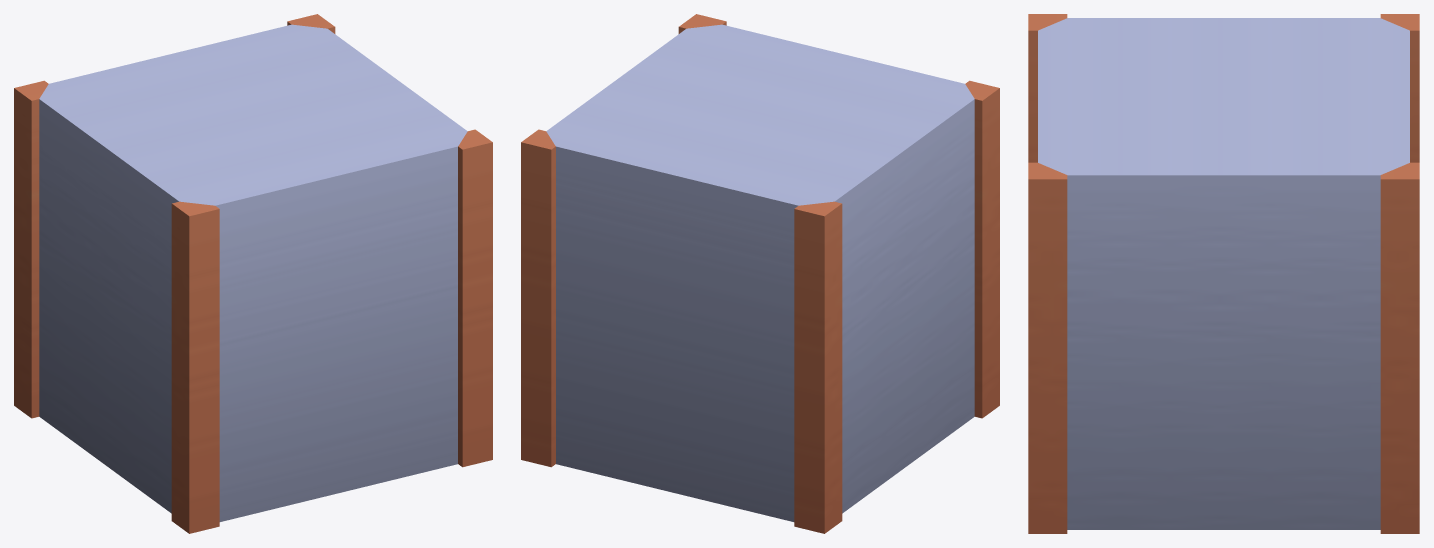
Rendered from wallBlock.fbx.
The picture shows the model from 3 angles, left to right: view 1: azimuth 30°, elevation 25°; view 2: azimuth 150°, elevation 25°; view 3: azimuth 270°, elevation 25°; orthographic projection. The views are drawn at different scales.
Visible parts, largest first — view 1: wallBlock; view 2: wallBlock; view 3: wallBlock.
Boxes of the visible parts, box(x1,y1,x2,y2) form: wallBlock: box(14, 14, 492, 533); wallBlock: box(521, 14, 999, 533); wallBlock: box(1028, 14, 1419, 533).
Bounding box in the file's own units: 1 × 1 × 1.
